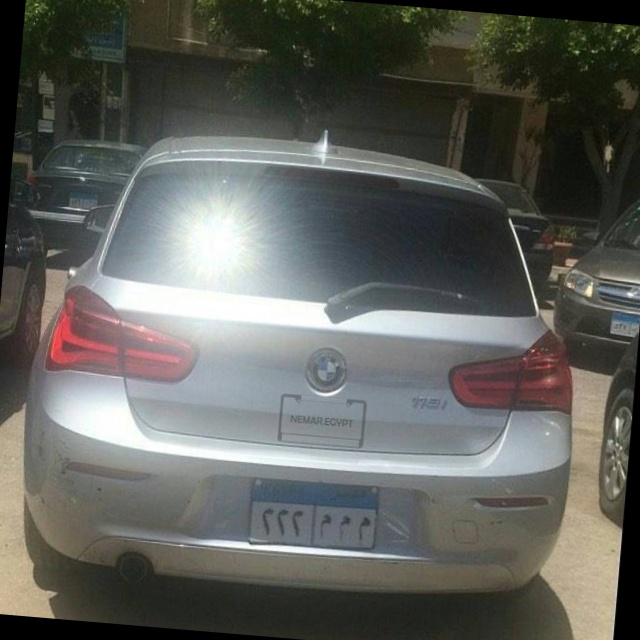License Plate: (244, 474, 383, 555)
